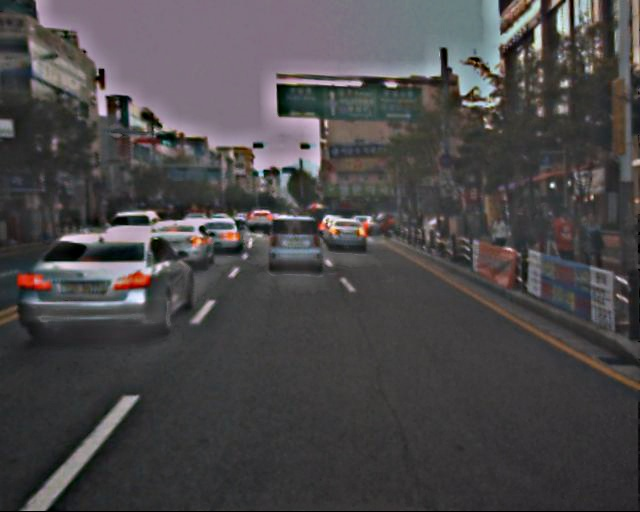person: (566, 213, 600, 295), (545, 211, 575, 283), (507, 209, 533, 273), (487, 215, 512, 277)
